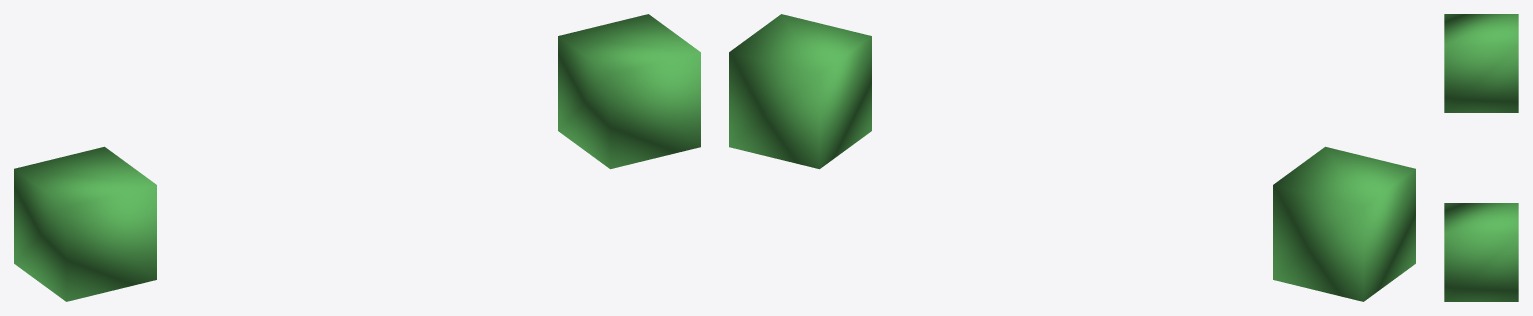
File: expected.gltf
3 views of the same model, side by side, from view 1: azimuth 30°, elevation 25°; view 2: azimuth 150°, elevation 25°; view 3: azimuth 270°, elevation 25° (orthographic). The views are drawn at different scales.
Size of the model in its own units: 70 by 10 by 10.
